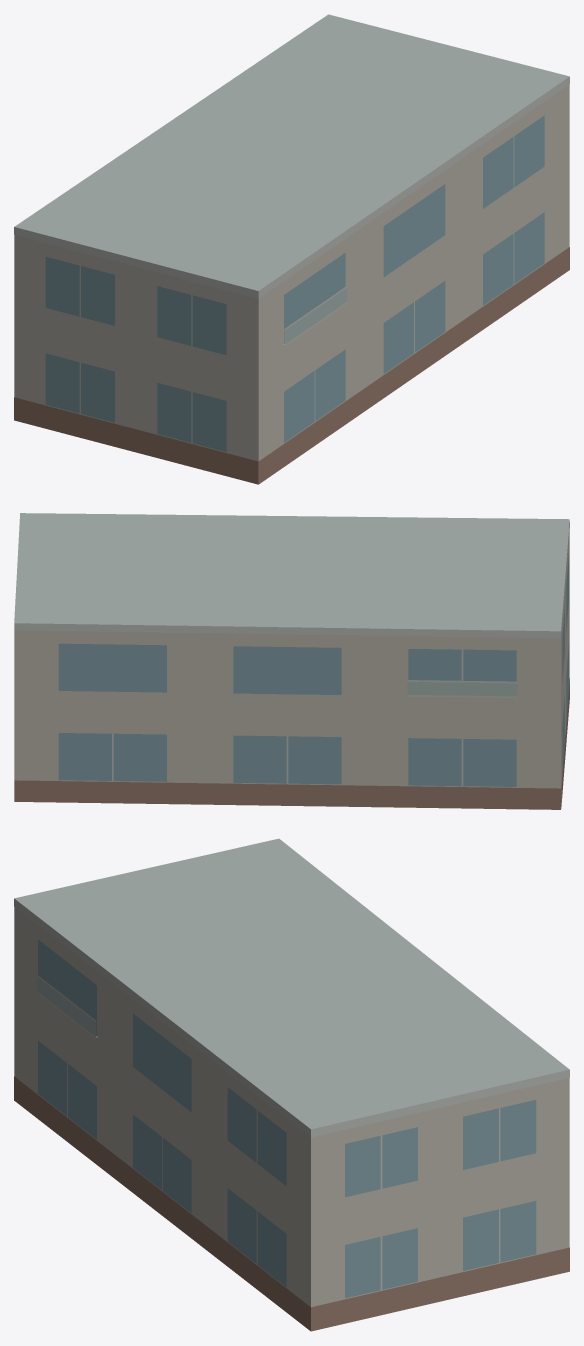
Rendered from survey-upis-32625960.glb.
3 views of the same model, one above another, from view 1: azimuth 30°, elevation 25°; view 2: azimuth 150°, elevation 25°; view 3: azimuth 270°, elevation 25° (orthographic). The views are drawn at different scales.
Visible parts, largest first — view 1: survey-upis-32625960.tmp; view 2: survey-upis-32625960.tmp; view 3: survey-upis-32625960.tmp.
Part boxes in pixels (x1,y1,x2,y2): survey-upis-32625960.tmp: (14,14,569,484); survey-upis-32625960.tmp: (14,513,569,809); survey-upis-32625960.tmp: (14,838,569,1331).
Bounding box in the file's own units: 18.85 × 6.1 × 15.22.
